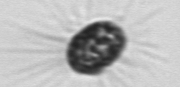plankton: (56, 16, 132, 78)
